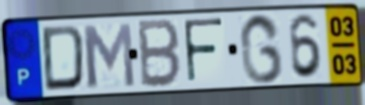6: (288, 12, 324, 82)
B: (137, 17, 183, 90)
D: (40, 23, 88, 94)
F: (181, 16, 226, 87)
G: (238, 11, 286, 86)
M: (79, 21, 138, 90)
